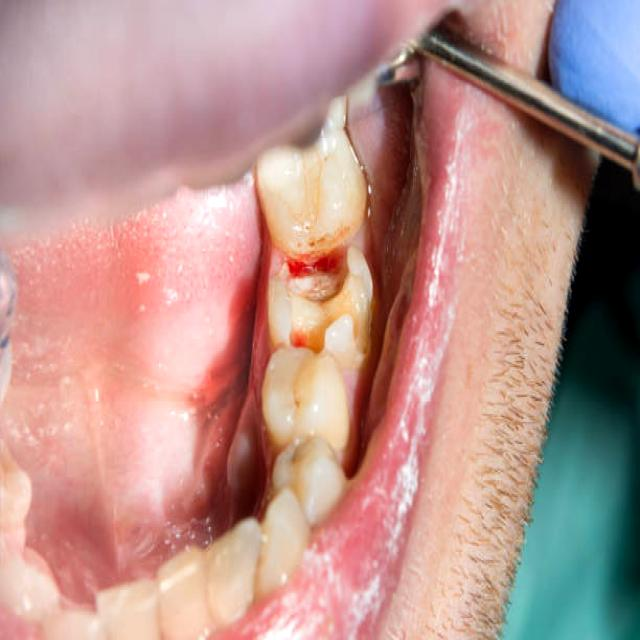cariess: (275, 249, 347, 301)
